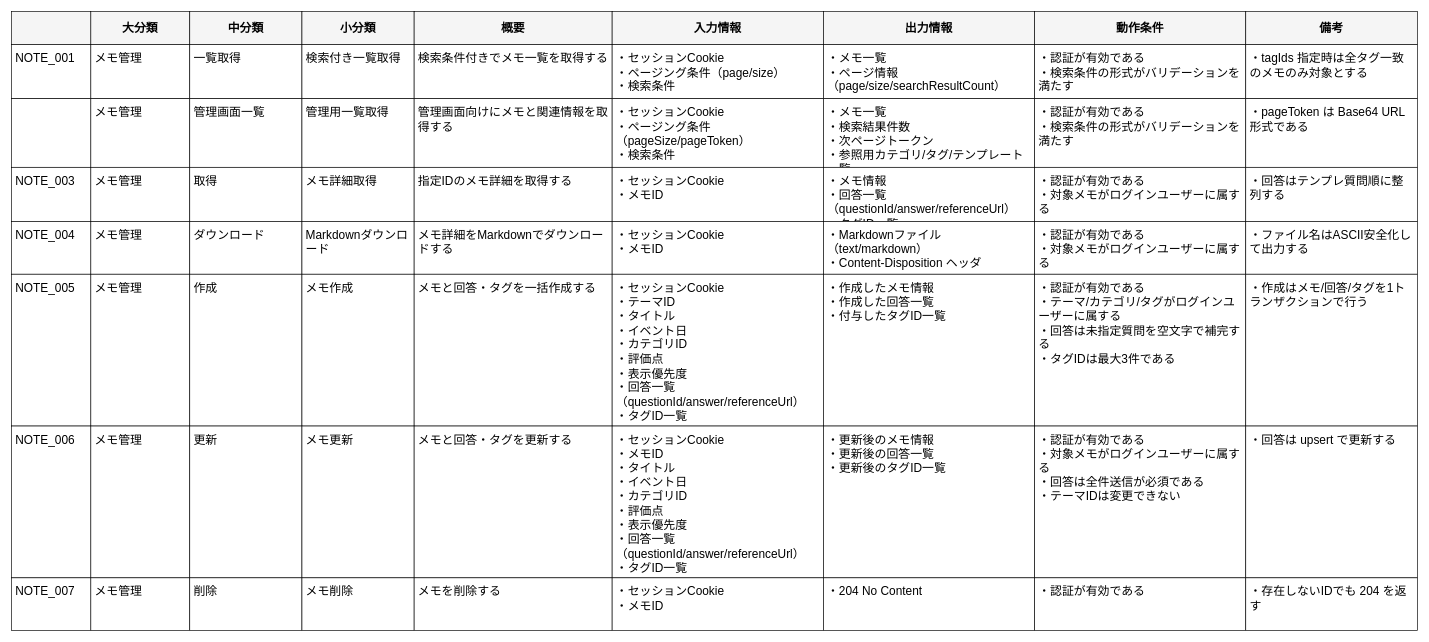
The diagram is 1429 pixels wide and 642 high, and some of its shapes have lost their labels. Each missing label, with the centre of its shape:
NOTE_002: [51,132]
機能ID: [51,28]
